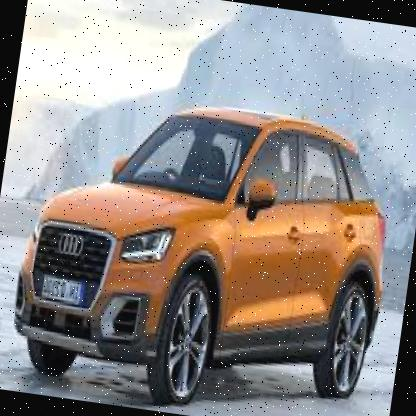car: (0, 69, 414, 416)
